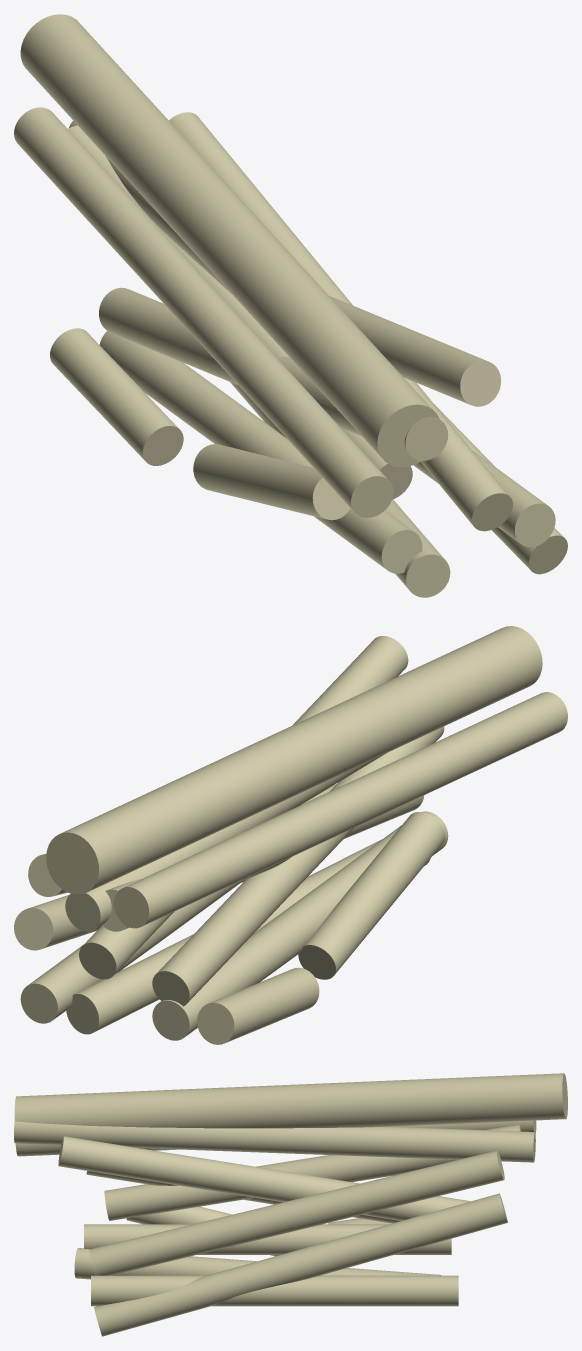
The model's file is SM_FallenLogs.FBX.
The picture shows the model from 3 angles, top to bottom: view 1: azimuth 30°, elevation 25°; view 2: azimuth 150°, elevation 25°; view 3: azimuth 270°, elevation 25°; orthographic projection. The views are drawn at different scales.
Parts seen in each view (by area): view 1: SM_FallenLogs; view 2: SM_FallenLogs; view 3: SM_FallenLogs.
Boxes of the visible parts, x1=… form: SM_FallenLogs: x1=14, y1=14, x2=567, y2=597; SM_FallenLogs: x1=14, y1=626, x2=567, y2=1044; SM_FallenLogs: x1=14, y1=1073, x2=567, y2=1336.
Size of the model in its own units: 342 by 904 by 389.
